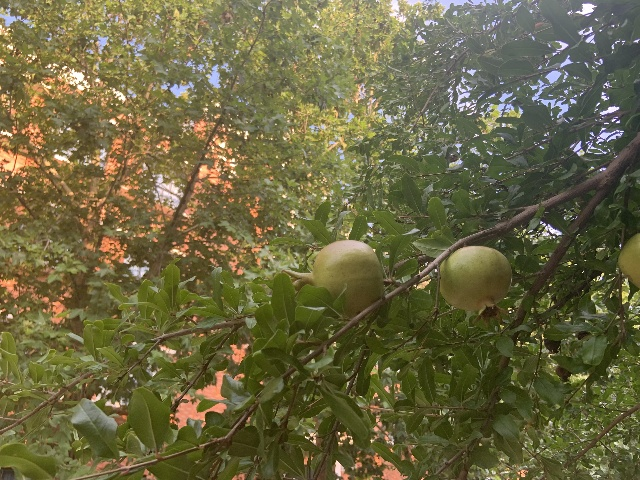mid-growth: (284, 239, 384, 317), (439, 245, 512, 329)
